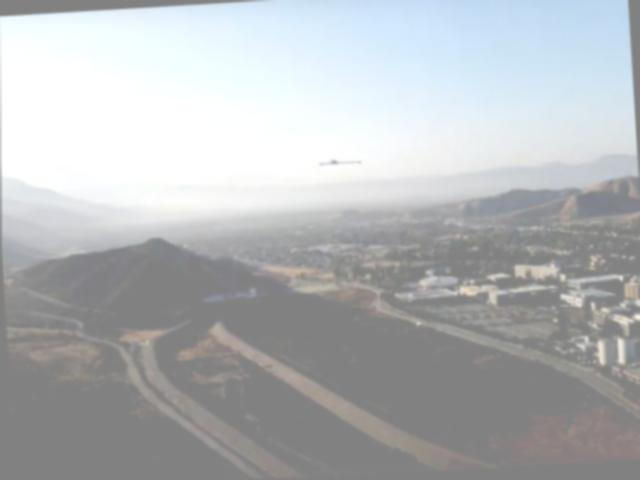iha: (317, 155, 363, 170)
